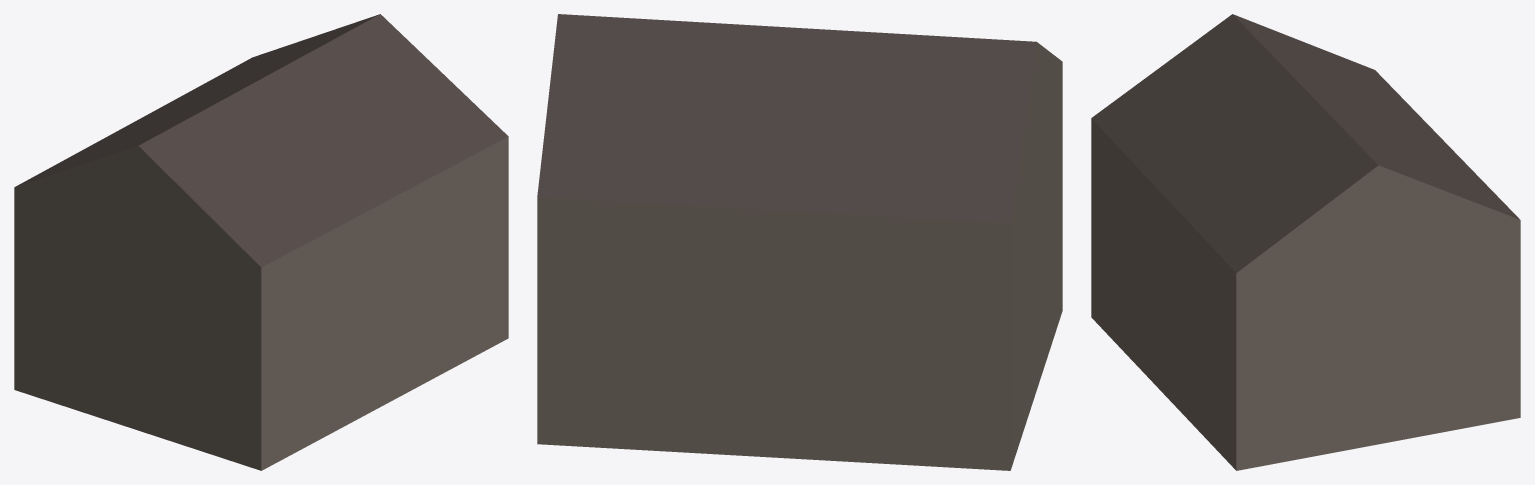
3 views of the same model, side by side, from view 1: azimuth 30°, elevation 25°; view 2: azimuth 150°, elevation 25°; view 3: azimuth 270°, elevation 25° (orthographic). The views are drawn at different scales.
Parts seen in each view (by area): view 1: HP-w776801045; view 2: HP-w776801045; view 3: HP-w776801045.
Part boxes in pixels (x1,y1,x2,y2): HP-w776801045: (14, 14, 508, 470); HP-w776801045: (537, 14, 1062, 470); HP-w776801045: (1091, 14, 1520, 470).
Size of the model in its own units: 13.18 by 8.47 by 11.81.
